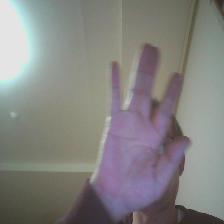hand: (104, 38, 195, 223)
